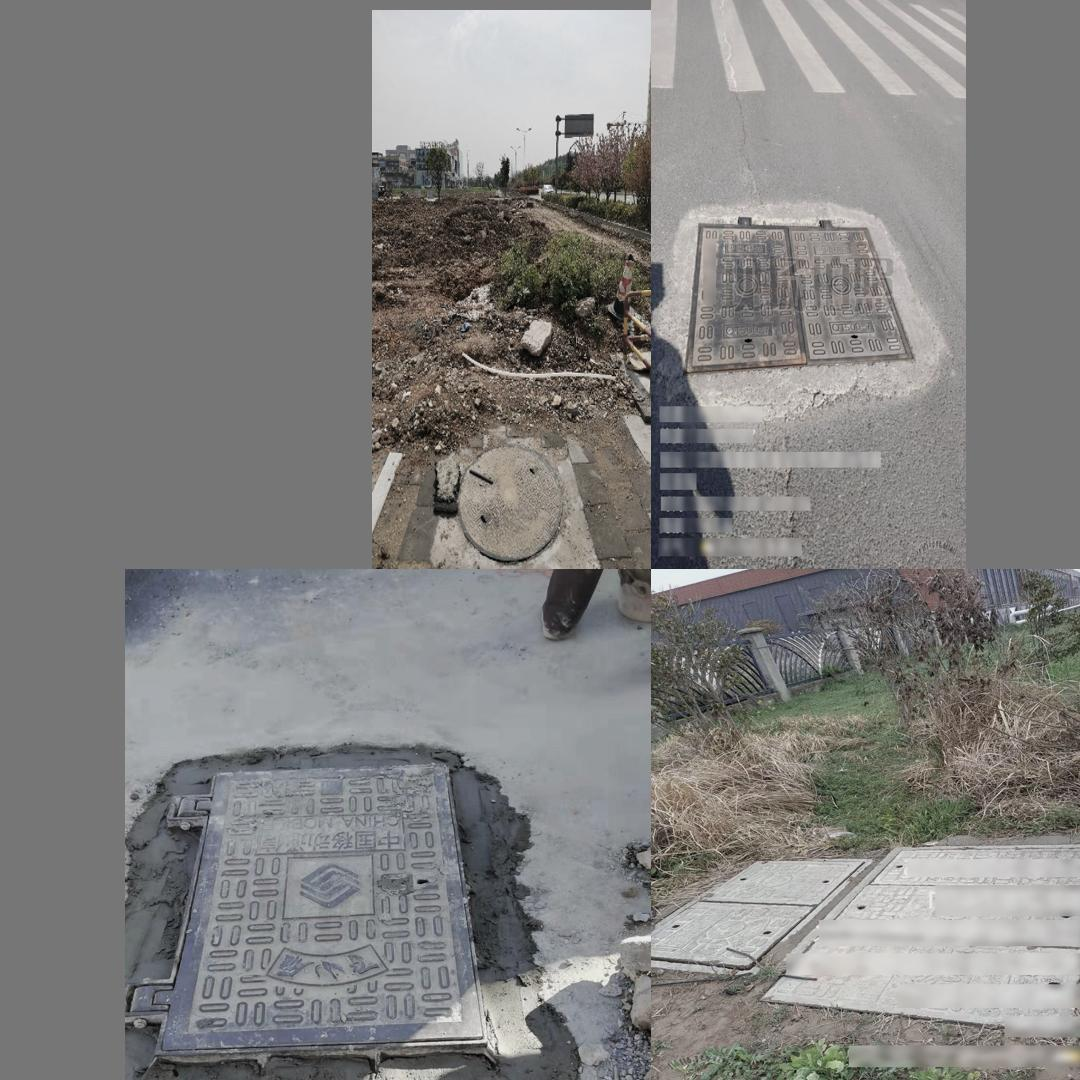good: (125, 764, 493, 1063), (756, 843, 1080, 1031), (683, 216, 915, 375), (651, 857, 870, 975), (458, 448, 567, 554)
